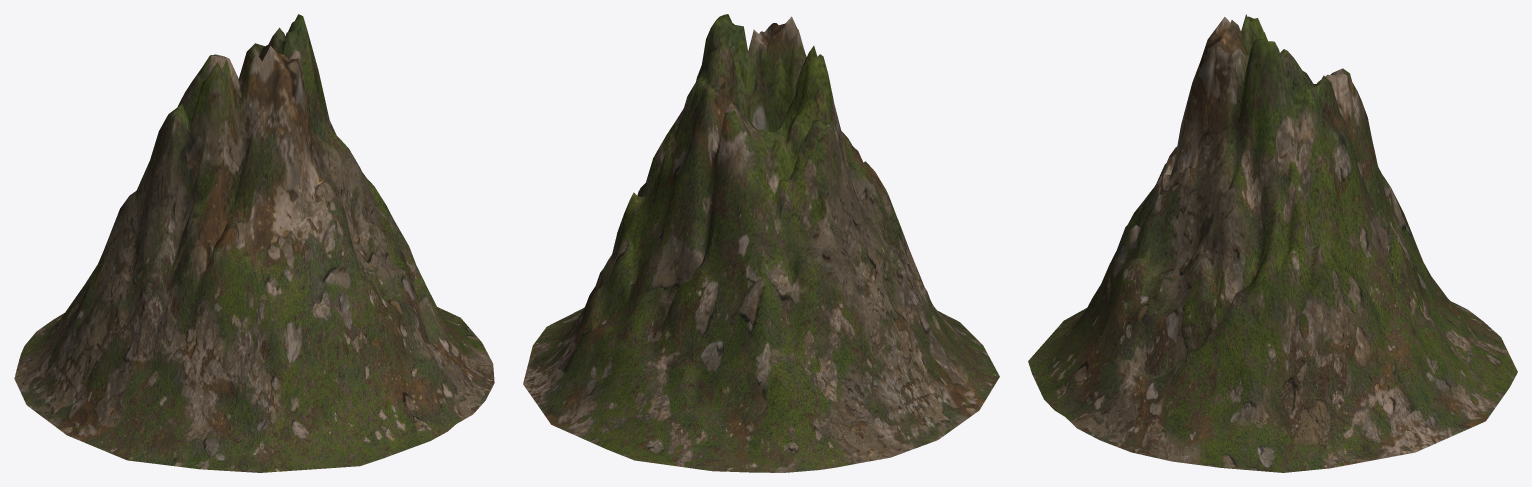
The model's file is Volcan.fbx.
The picture shows the model from 3 angles, left to right: view 1: azimuth 30°, elevation 25°; view 2: azimuth 150°, elevation 25°; view 3: azimuth 270°, elevation 25°; orthographic projection.
Visible parts, largest first — view 1: Landscape.003; view 2: Landscape.003; view 3: Landscape.003.
Boxes of the visible parts, box(x1,y1,x2,y2) form: Landscape.003: box(14, 14, 494, 472); Landscape.003: box(523, 14, 999, 472); Landscape.003: box(1028, 14, 1517, 472).
Size of the model in its own units: 380 by 305 by 385.
Materials: 1 (1 with a texture image).
